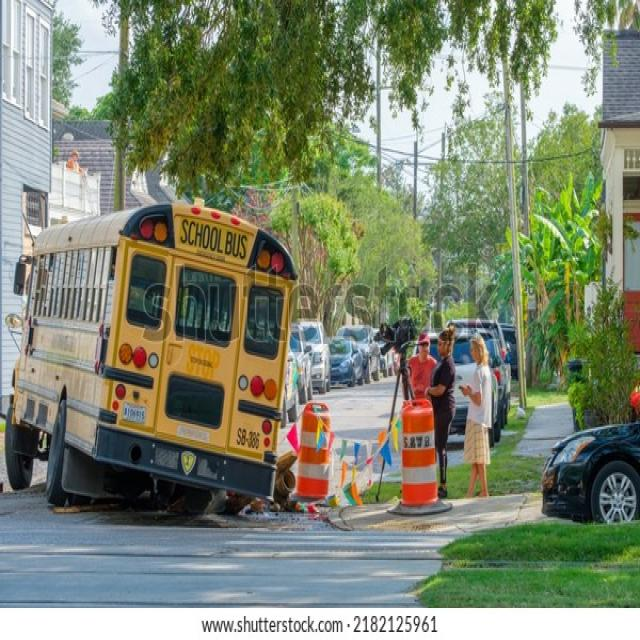Accident: (4, 196, 296, 526)
